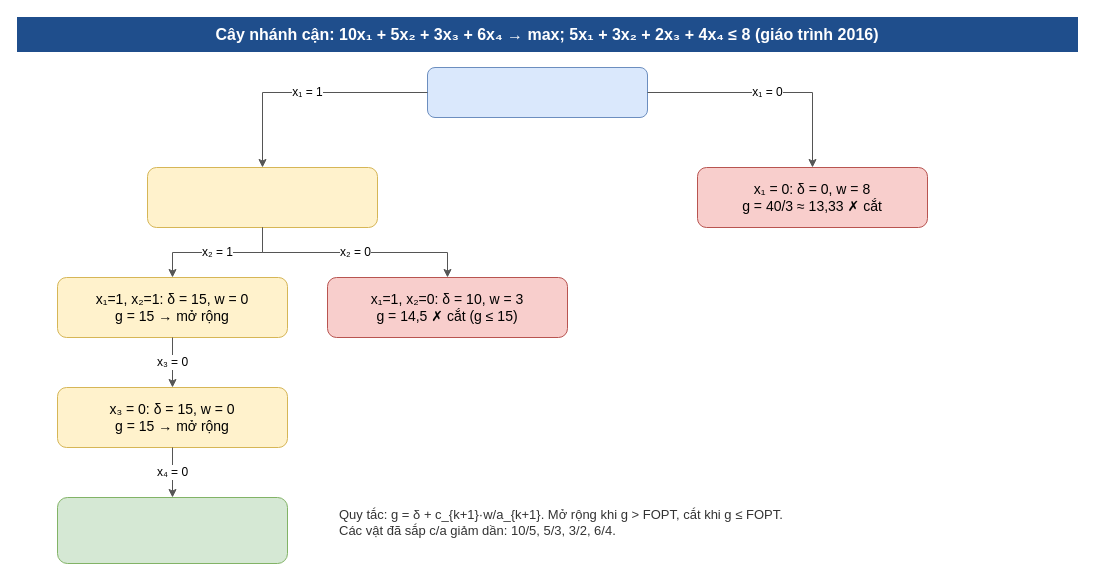
This 1095x585 diagram has some shape labels left out. The shapes that lost their labels are listed below. From the top down, each one's box as (x1, y1, x2, y2) in pixels, then its label:
(426, 66, 648, 118): Gốc: FOPT = −∞ g = 16
(146, 166, 378, 228): x₁ = 1: δ = 10, w = 3 g = 15 → mở rộng
(56, 496, 288, 564): x₄ = 0: lá Kỷ lục FOPT = 15 x* = (1,1,0,0)
